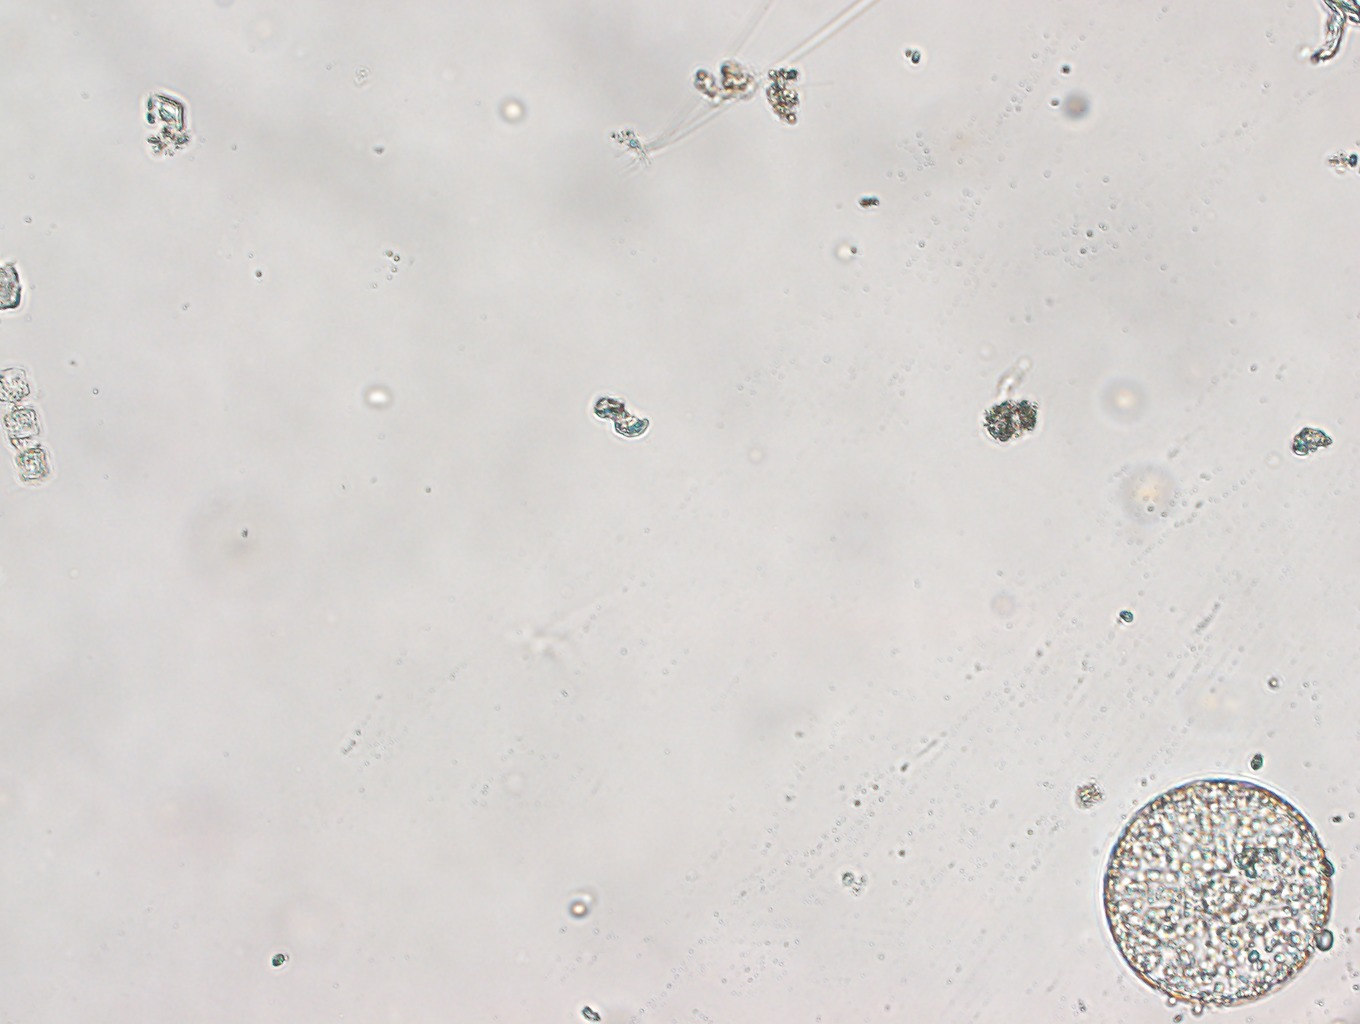coscinodiscus: (1097, 772, 1343, 1011)
